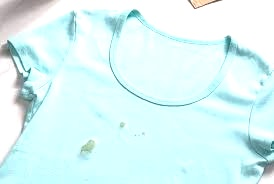mustard: (78, 139, 97, 159), (117, 115, 127, 129), (131, 131, 149, 137)
